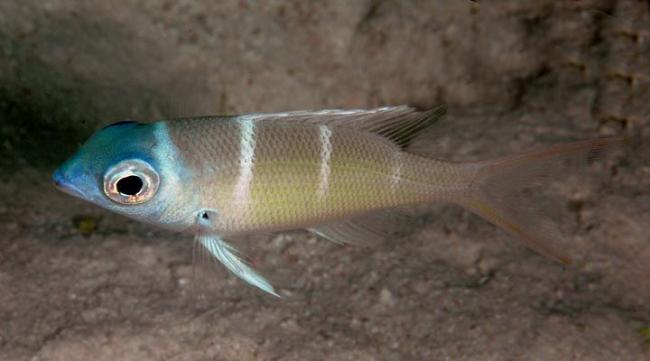fish: (52, 103, 624, 299)
